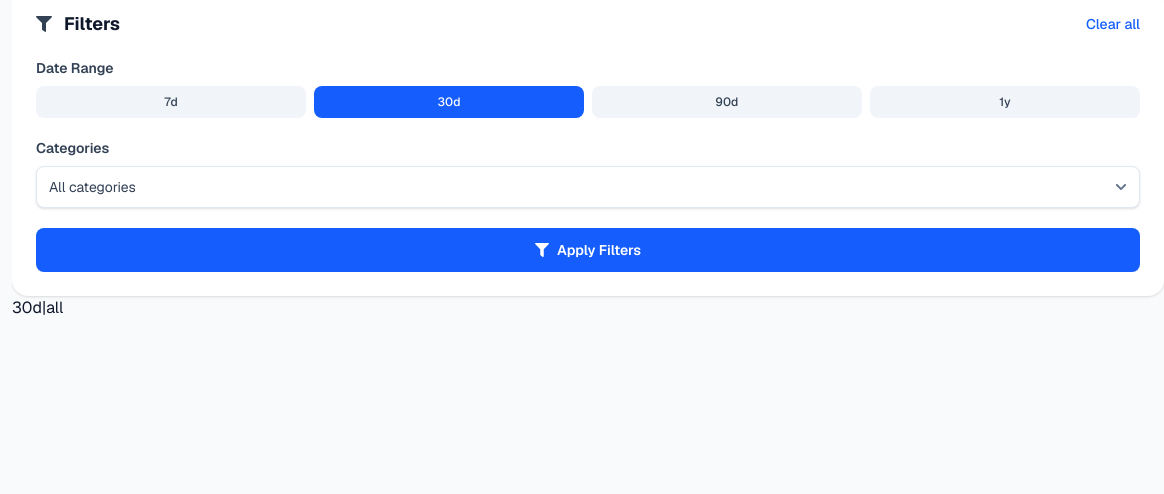
Test: FiltersPanel › applies draft date range and category only when Apply Filters is pressed
Click the radio button named "Last 7 days".
click(171, 102)  # box [36, 86, 306, 118]
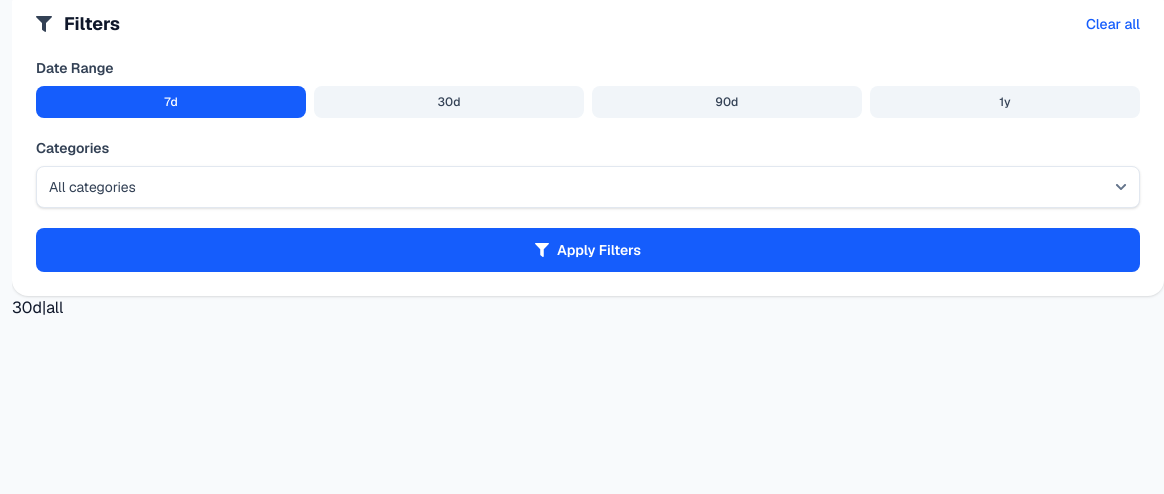
Click the button with aria-label "Filter by category".
click(92, 187)  # box [36, 166, 1140, 208]
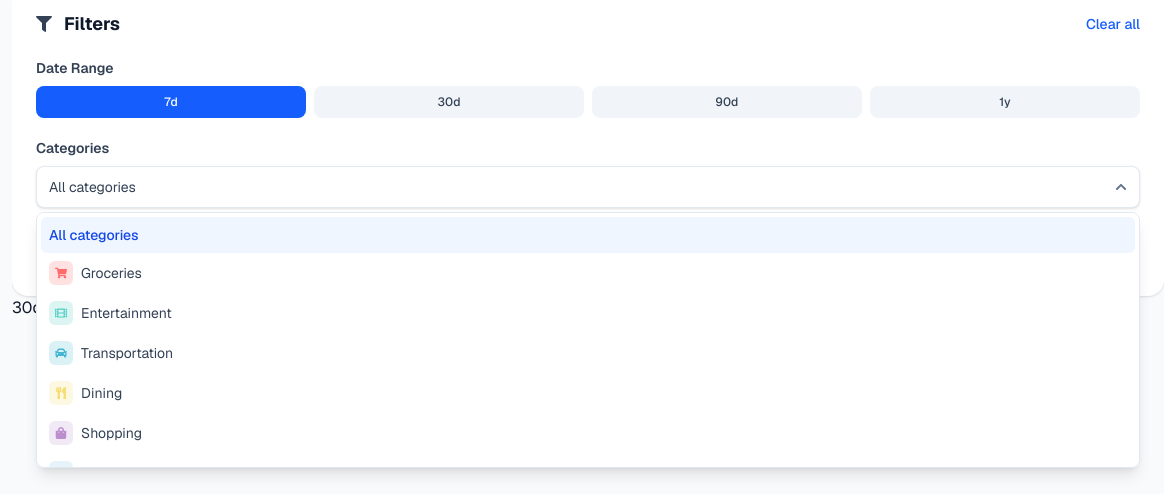
Click the option "Groceries".
click(111, 273)  # box [41, 253, 1135, 293]
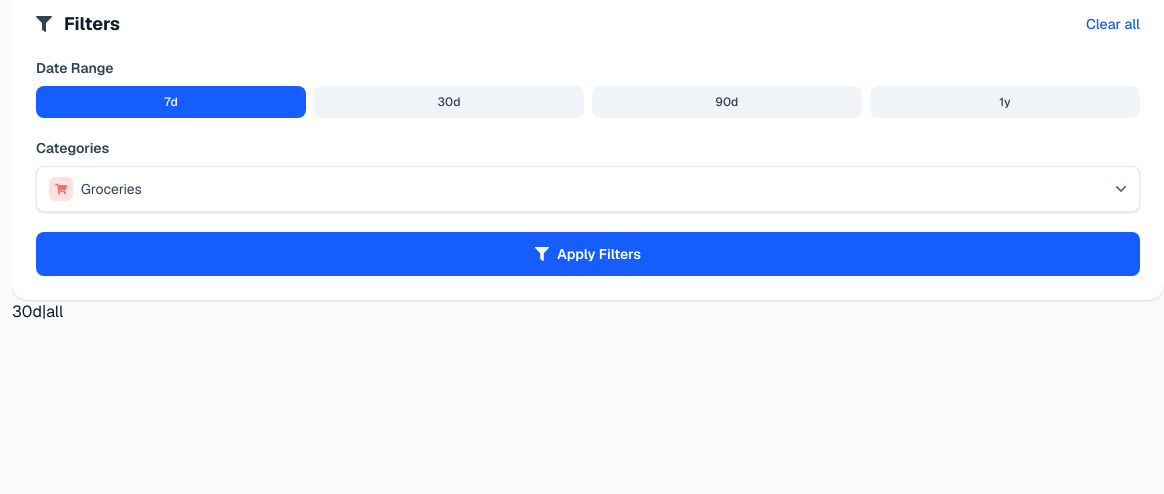
Check: the text named "Applied filters" reads "30d|all", box [12, 301, 42, 322]
Click the button "Apply Filters".
click(588, 254)  # box [36, 232, 1140, 276]
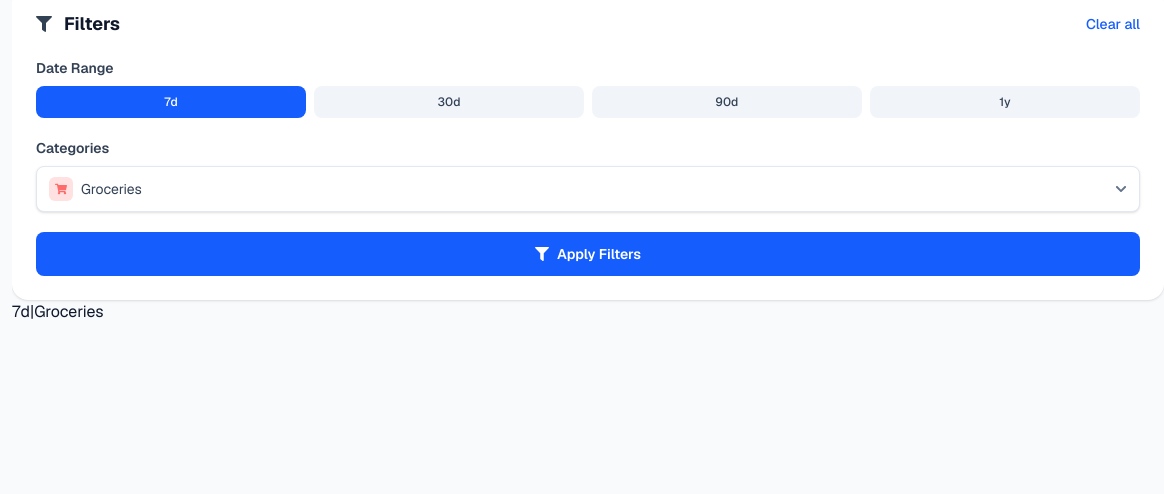
Check: the text named "Applied filters" reads "7d|Groceries", box [12, 301, 30, 322]
